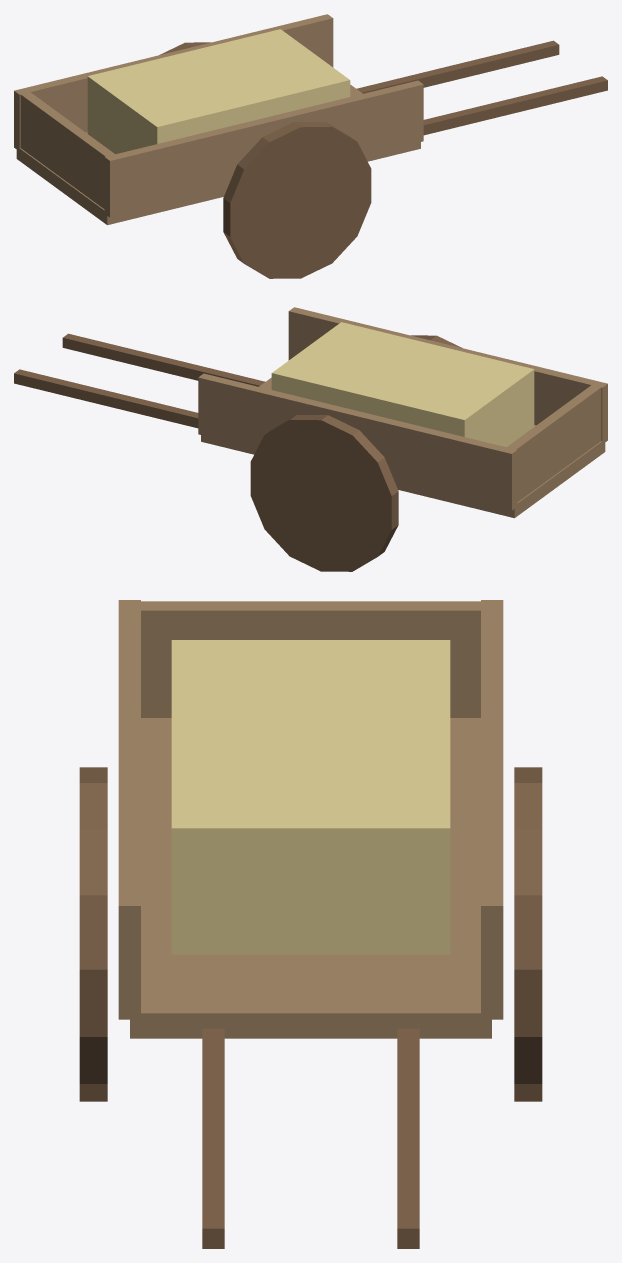
File: Cart.fbx
3 views of the same model, one above another, from view 1: azimuth 30°, elevation 25°; view 2: azimuth 150°, elevation 25°; view 3: azimuth 270°, elevation 25° (orthographic). The views are drawn at different scales.
Parts seen in each view (by area): view 1: Cart; view 2: Cart; view 3: Cart.
Part boxes in pixels (x1,y1,x2,y2): Cart: [14, 14, 607, 278]; Cart: [14, 307, 607, 571]; Cart: [79, 600, 542, 1248].
Bounding box in the file's own units: 4.3 × 1.66 × 1.3.
